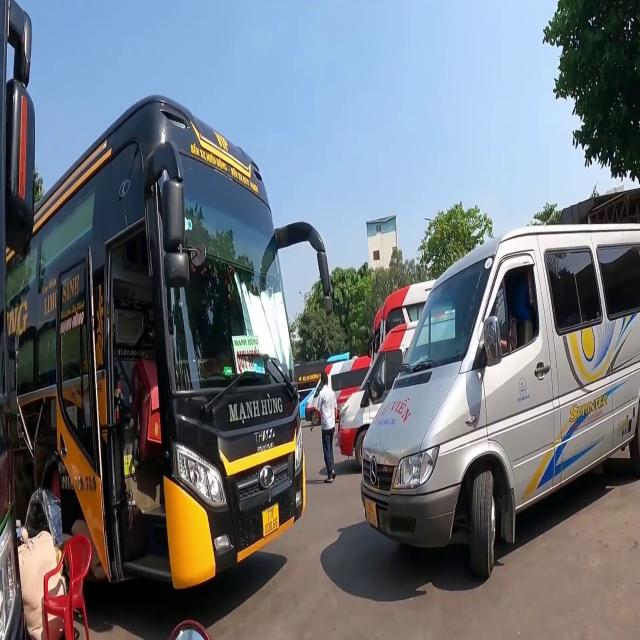bien_vang: (262, 501, 280, 537), (364, 496, 378, 528)
